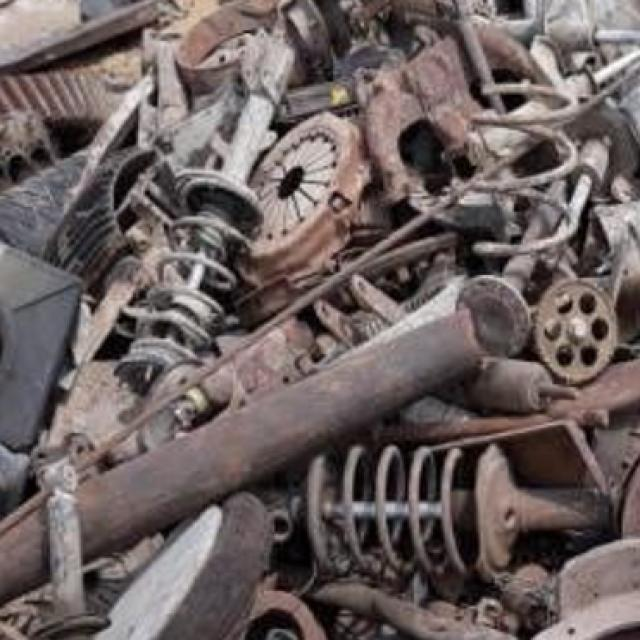shock absorber: (108, 28, 296, 395), (263, 444, 612, 580)
